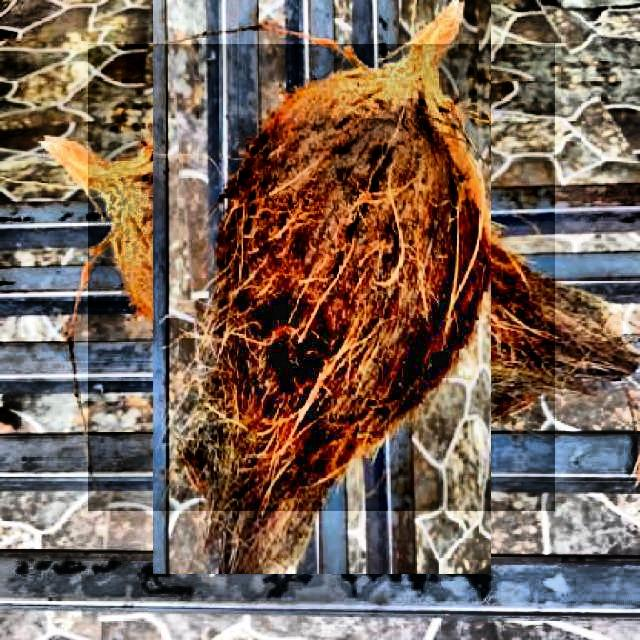good: (183, 16, 489, 572)
